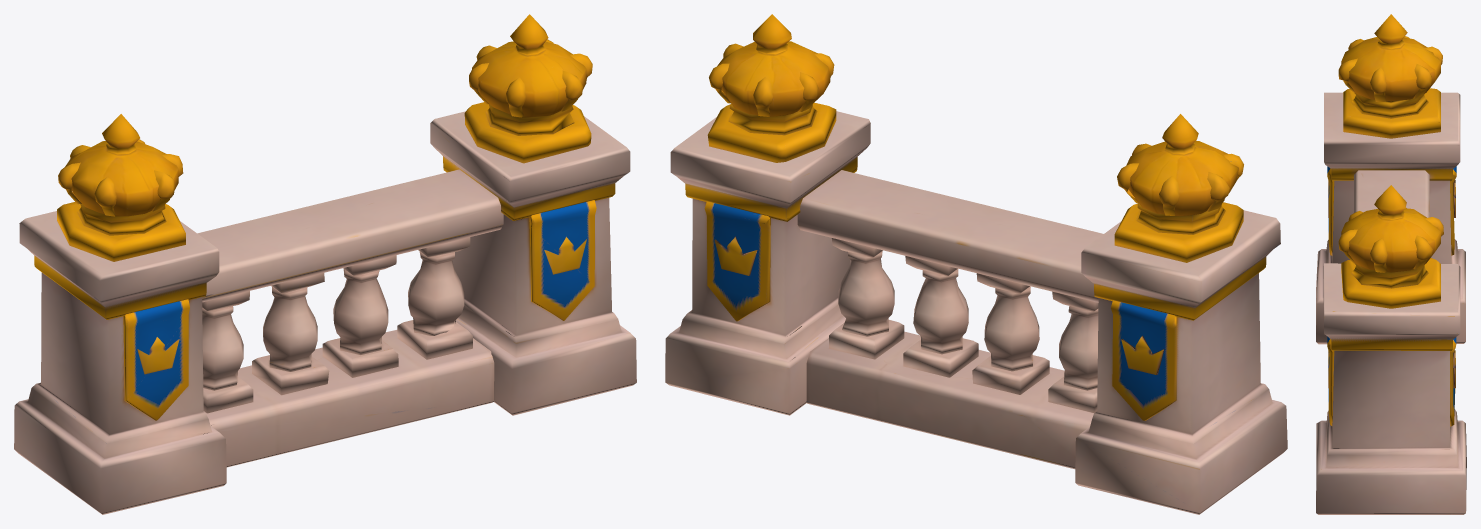
File: fence_royal.glb
3 views of the same model, side by side, from view 1: azimuth 30°, elevation 25°; view 2: azimuth 150°, elevation 25°; view 3: azimuth 270°, elevation 25° (orthographic). The views are drawn at different scales.
Visible parts, largest first — view 1: geometry_0; view 2: geometry_0; view 3: geometry_0.
Part boxes in pixels (<box>): geometry_0: <box>14,14,636,514</box>; geometry_0: <box>665,14,1287,514</box>; geometry_0: <box>1316,14,1466,514</box>.
Size of the model in its own units: 0.9565 by 0.6094 by 0.2725.
1 material, 1 textured.
